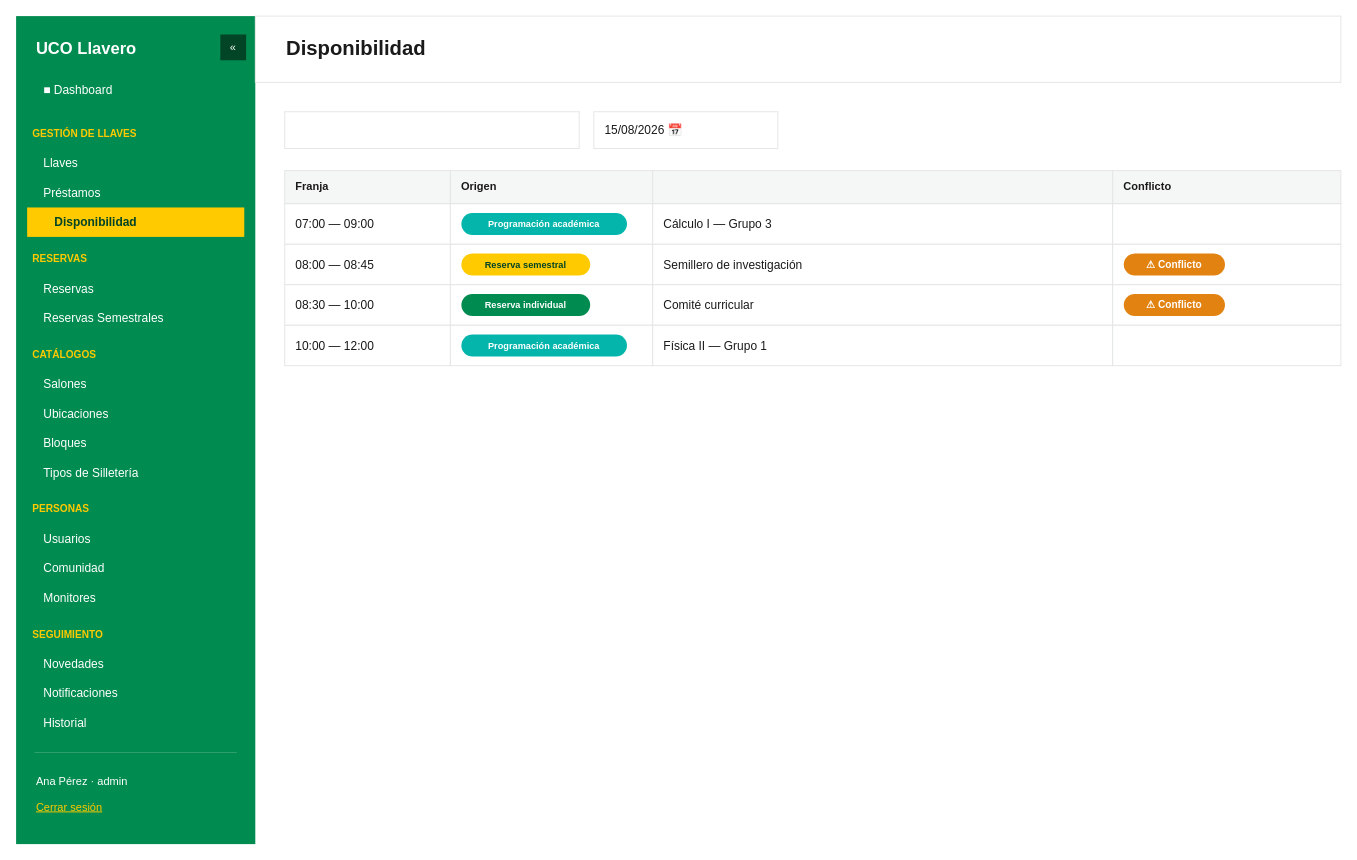
Some shapes in this 1357 by 860 pixel diagram are drawn without their labels. Here are the shapes that lost their labels. From the top down, the centre of each, then its label:
At (x=431, y=130): "Selecciona un salón ▾".
At (x=882, y=187): "Título".
